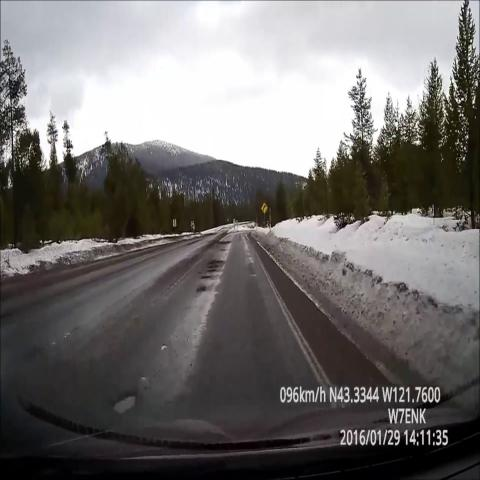pothole: (108, 379, 144, 422), (200, 256, 226, 280), (214, 235, 234, 256), (194, 280, 210, 297)
